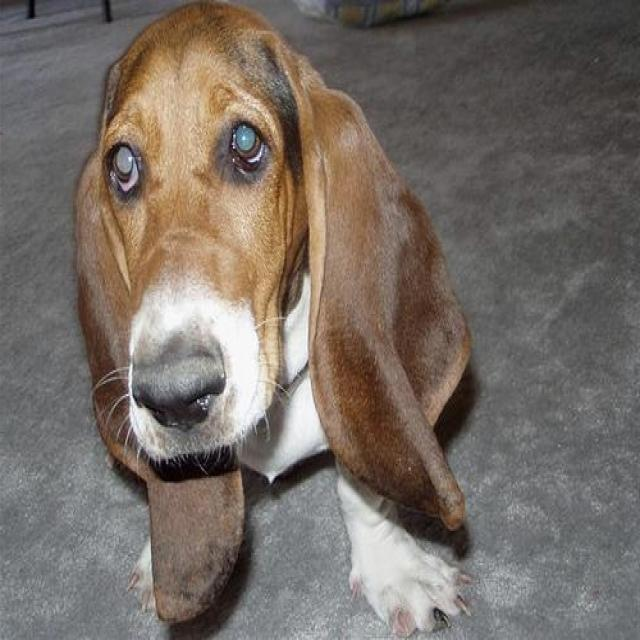basset: (72, 0, 477, 631)
